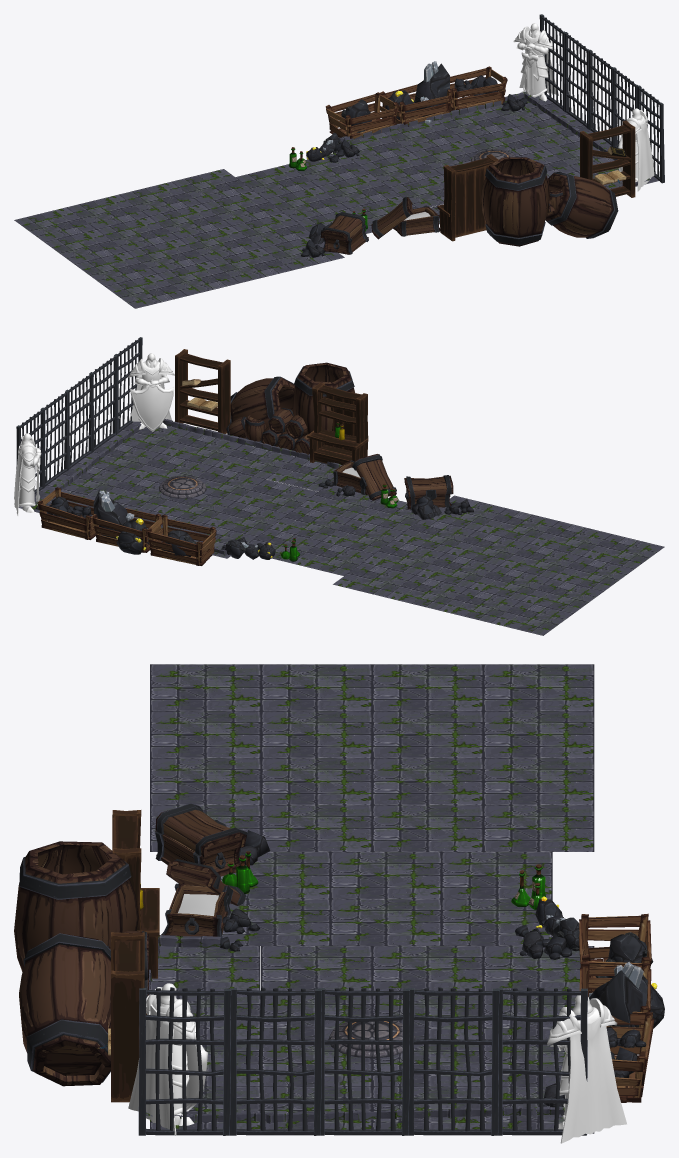
The picture shows the model from 3 angles, top to bottom: view 1: azimuth 30°, elevation 25°; view 2: azimuth 150°, elevation 25°; view 3: azimuth 270°, elevation 25°; orthographic projection. The views are drawn at different scales.
Visible parts, largest first — view 1: SM_PROP_barrel_dungeon_02 (1), SM_PROP_barrel_dungeon_02 (2), SM_PROP_bookshelf_dungeon_01, SM_PROP_bookshelf_dungeon_04, SM_PROP_crate_dungeon_01 (2), Knight_Statue_Sword, SM_PROP_bars_wall_dungeon_02 (3), MOD_Floor_01_O_straight_med (32), MOD_Floor_01_O_straight_med (39), MOD_Floor_01_O_straight_med (27), MOD_Floor_01_O_straight_med (26), MOD_Floor_01_O_straight_med (12) (+40 smaller); view 2: SM_PROP_bookshelf_dungeon_01, SM_PROP_bookshelf_dungeon_04, SM_PROP_barrel_dungeon_02 (1), SM_PROP_crate_dungeon_01 (2), SM_PROP_barrel_dungeon_02 (2), SM_PROP_crate_dungeon_01, SM_PROP_bars_wall_dungeon_02 (3), SM_PROP_bars_wall_dungeon_02 (2), MOD_Floor_01_O_straight_med (39), MOD_Floor_01_O_straight_med (40), MOD_Floor_01_O_straight_med (33), MOD_Floor_01_O_straight_med (32) (+47 smaller); view 3: SM_PROP_barrel_dungeon_02 (2), SM_PROP_barrel_dungeon_02 (1), SM_PROP_bars_wall_dungeon_02 (1), SM_PROP_bars_wall_dungeon_02, SM_PROP_bars_wall_dungeon_02 (3), SM_PROP_bars_wall_dungeon_02 (2), Knight_Statue_Sword, SM_PROP_bars_wall_dungeon_02 (4), MOD_Floor_01_O_straight_med (32), MOD_Floor_01_O_straight_med (31), MOD_Floor_01_O_straight_med (30), MOD_Floor_01_O_straight_med (33) (+51 smaller).
Boxes of the visible parts, x1,y1,x2,y2 form: SM_PROP_barrel_dungeon_02 (1): (481, 157, 549, 246); SM_PROP_barrel_dungeon_02 (2): (545, 172, 618, 238); SM_PROP_bookshelf_dungeon_01: (437, 154, 499, 241); SM_PROP_bookshelf_dungeon_04: (580, 120, 635, 197); SM_PROP_crate_dungeon_01 (2): (325, 92, 398, 138); Knight_Statue_Sword: (513, 23, 559, 101); SM_PROP_bars_wall_dungeon_02 (3): (564, 32, 589, 129); MOD_Floor_01_O_straight_med (32): (45, 229, 126, 264); MOD_Floor_01_O_straight_med (39): (119, 181, 201, 216); MOD_Floor_01_O_straight_med (27): (172, 169, 253, 203); MOD_Floor_01_O_straight_med (26): (202, 191, 283, 225); MOD_Floor_01_O_straight_med (12): (359, 152, 441, 187); SM_PROP_bookshelf_dungeon_01: (307, 382, 368, 464); SM_PROP_bookshelf_dungeon_04: (175, 349, 230, 433); SM_PROP_barrel_dungeon_02 (1): (292, 362, 354, 434); SM_PROP_crate_dungeon_01 (2): (146, 514, 216, 565); SM_PROP_barrel_dungeon_02 (2): (229, 376, 294, 438); SM_PROP_crate_dungeon_01: (38, 487, 95, 539); SM_PROP_bars_wall_dungeon_02 (3): (40, 391, 68, 486); SM_PROP_bars_wall_dungeon_02 (2): (65, 373, 93, 469); MOD_Floor_01_O_straight_med (39): (385, 575, 467, 609); MOD_Floor_01_O_straight_med (40): (446, 530, 528, 565); MOD_Floor_01_O_straight_med (33): (582, 534, 664, 568); MOD_Floor_01_O_straight_med (32): (521, 578, 603, 613); SM_PROP_barrel_dungeon_02 (2): (19, 933, 110, 1086); SM_PROP_barrel_dungeon_02 (1): (14, 841, 138, 971); SM_PROP_bars_wall_dungeon_02 (1): (230, 987, 321, 1135); SM_PROP_bars_wall_dungeon_02: (138, 987, 231, 1135); SM_PROP_bars_wall_dungeon_02 (3): (408, 987, 499, 1135); SM_PROP_bars_wall_dungeon_02 (2): (318, 987, 409, 1135); Knight_Statue_Sword: (547, 995, 626, 1143); SM_PROP_bars_wall_dungeon_02 (4): (496, 987, 587, 1135); MOD_Floor_01_O_straight_med (32): (372, 664, 483, 711); MOD_Floor_01_O_straight_med (31): (483, 664, 594, 711); MOD_Floor_01_O_straight_med (30): (261, 664, 372, 711); MOD_Floor_01_O_straight_med (33): (150, 664, 260, 711).
Bounding box in the file's own units: 4088 × 709 × 2345.
